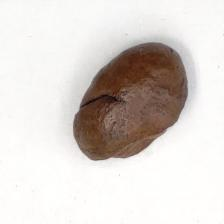NG: (95, 124, 171, 162), (73, 91, 127, 114)
